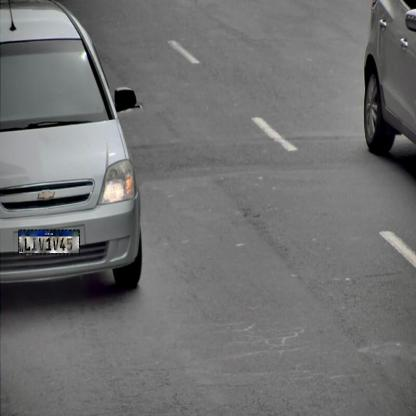PlacaM: (18, 230, 80, 254)
